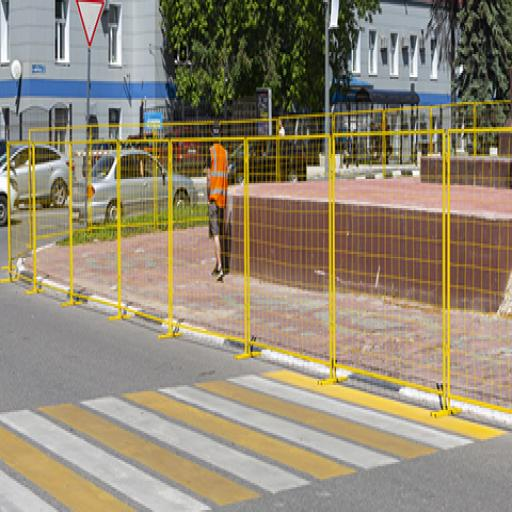chair: (8, 113, 511, 412)
closet: (0, 371, 502, 509)
phone: (325, 0, 329, 176), (87, 46, 90, 129)
